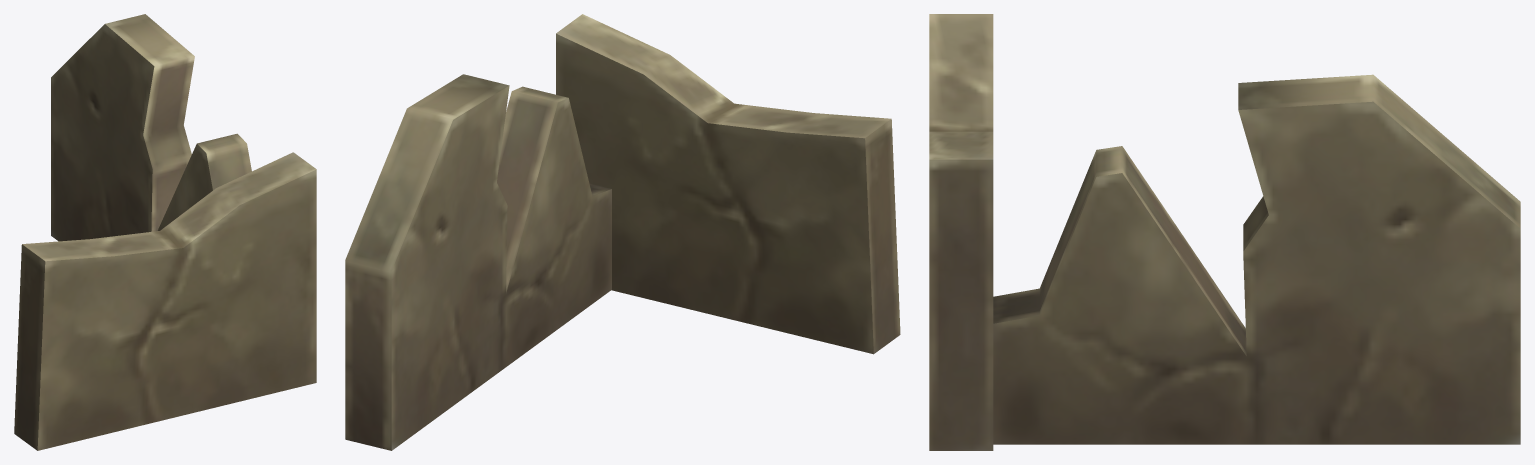
File: Stage_CaoYuan_ShiQiang03.FBX
The picture shows the model from 3 angles, left to right: view 1: azimuth 30°, elevation 25°; view 2: azimuth 150°, elevation 25°; view 3: azimuth 270°, elevation 25°; orthographic projection. The views are drawn at different scales.
Parts seen in each view (by area): view 1: Stage_CaoYuan_ShiQiang03; view 2: Stage_CaoYuan_ShiQiang03; view 3: Stage_CaoYuan_ShiQiang03.
Part boxes in pixels (x1,y1,x2,y2): Stage_CaoYuan_ShiQiang03: [14, 14, 316, 450]; Stage_CaoYuan_ShiQiang03: [345, 14, 900, 450]; Stage_CaoYuan_ShiQiang03: [929, 14, 1520, 450].
Size of the model in its own units: 76.64 by 66.06 by 103.
